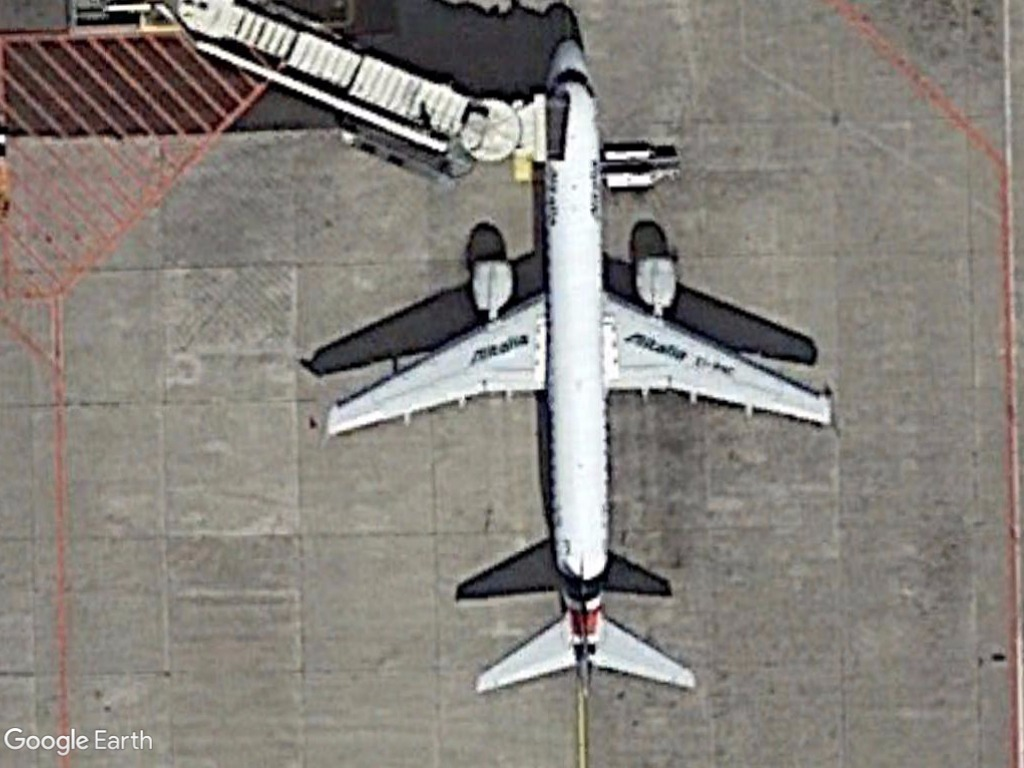airliner: (318, 30, 842, 706)
